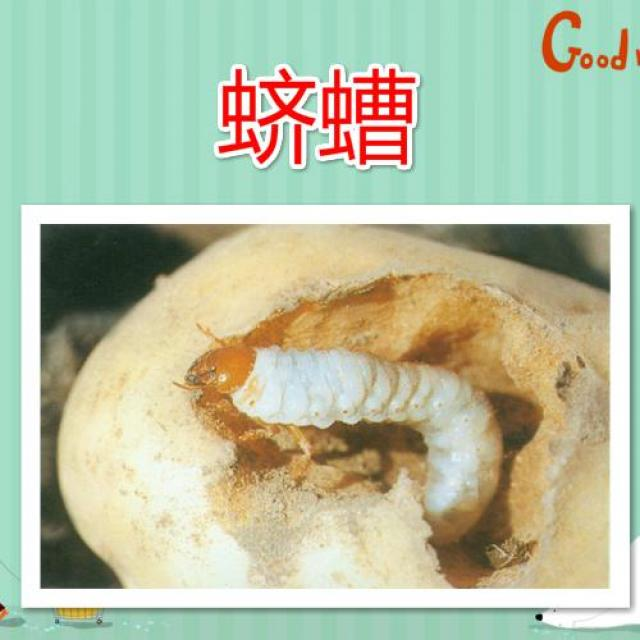Grub-Adult-: (179, 321, 496, 552)
